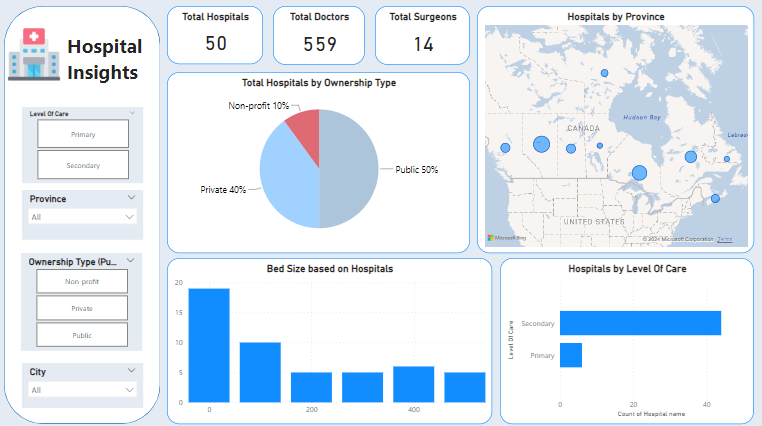

The page's visual inventory and layout, read from the dashboard file:
{"tool":"powerbi","page":{"name":"Generic","canvas":[1280,720],"ordinal":0},"visuals":[{"type":"card","title":"Total Hospitals","fields":{"Values":["CountNonNull(Medical_data.Hospital name)"]},"box":[283.3,11.7,160,96.7],"z":0},{"type":"card","title":"Total Doctors","fields":{"Values":["Sum(Medical_data.No. of Doctors)"]},"box":[459.5,11.7,153.7,98],"z":1000},{"type":"card","title":"Total Surgeons","fields":{"Values":["Sum(Medical_data.No of surgeons)"]},"box":[630,11.7,158.3,98.3],"z":2000},{"type":"pieChart","title":"Total Hospitals by Ownership Type","fields":{"Category":["Medical_data.Ownership Type (Public/Private/Non-Profit)"],"Y":["CountNonNull(Medical_data.Hospital name)"]},"box":[283.9,121.5,504.9,301.5],"z":3000},{"type":"columnChart","title":"Bed Size based on Hospitals","fields":{"Category":["Medical_data.Bed Size (bins)"],"Y":["CountNonNull(Medical_data.Hospital name)"]},"box":[283.3,431.7,541.7,276.7],"z":4000},{"type":"map","title":"Hospitals by Province","fields":{"Category":["Medical_data.Province","Medical_data.City"],"Size":["CountNonNull(Medical_data.Hospital name)"]},"box":[800,11.7,461.7,411.7],"z":5000},{"type":"barChart","title":"Hospitals by Level Of Care","fields":{"Category":["Medical_data.Level Of Care"],"Y":["CountNonNull(Medical_data.Hospital name)"]},"box":[838.3,431.7,423.3,276.7],"z":6000},{"type":"shape","box":[11.7,11.7,260.5,696.6],"z":7000},{"type":"slicer","fields":{"Values":["Medical_data.Level Of Care"]},"box":[41.7,180,201.7,126.7],"z":8000},{"type":"slicer","fields":{"Values":["Medical_data.Province"]},"box":[41.7,318.3,201.7,83.3],"z":9000},{"type":"slicer","fields":{"Values":["Medical_data.Ownership Type (Public/Private/Non-Profit)"]},"box":[40,423.3,201.7,163.3],"z":10000},{"type":"slicer","fields":{"Values":["Medical_data.City"]},"box":[41.7,606.7,201.7,75],"z":11000},{"type":"image","box":[11.7,38.3,100,108.3],"z":12000},{"type":"textbox","box":[111.7,50,153.3,96.7],"z":13000}]}

Visuals, with their boxes in screenshot pixels (x1, y1, x2, y2), scaled from the page's 1280x720 canvas onto the 762x426 screenshot:
"Total Hospitals" card: {"x1": 169, "y1": 7, "x2": 264, "y2": 64}
"Total Doctors" card: {"x1": 274, "y1": 7, "x2": 365, "y2": 65}
"Total Surgeons" card: {"x1": 375, "y1": 7, "x2": 469, "y2": 65}
"Total Hospitals by Ownership Type" pieChart: {"x1": 169, "y1": 72, "x2": 470, "y2": 250}
"Bed Size based on Hospitals" columnChart: {"x1": 169, "y1": 255, "x2": 491, "y2": 419}
"Hospitals by Province" map: {"x1": 476, "y1": 7, "x2": 751, "y2": 251}
"Hospitals by Level Of Care" barChart: {"x1": 499, "y1": 255, "x2": 751, "y2": 419}
shape: {"x1": 7, "y1": 7, "x2": 162, "y2": 419}
slicer - Medical_data.Level Of Care: {"x1": 25, "y1": 106, "x2": 145, "y2": 181}
slicer - Medical_data.Province: {"x1": 25, "y1": 188, "x2": 145, "y2": 238}
slicer - Medical_data.Ownership Type (Public/Private/Non-Profit): {"x1": 24, "y1": 250, "x2": 144, "y2": 347}
slicer - Medical_data.City: {"x1": 25, "y1": 359, "x2": 145, "y2": 403}
image: {"x1": 7, "y1": 23, "x2": 66, "y2": 87}
textbox: {"x1": 66, "y1": 30, "x2": 158, "y2": 87}
